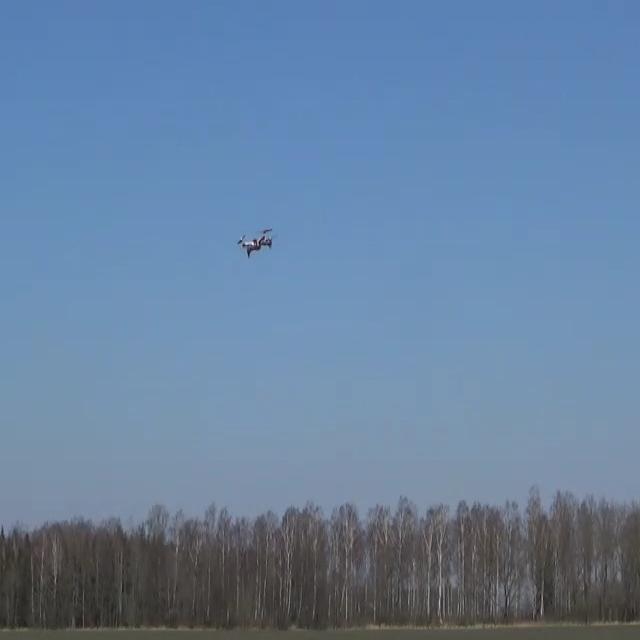drone: (236, 226, 273, 258)
